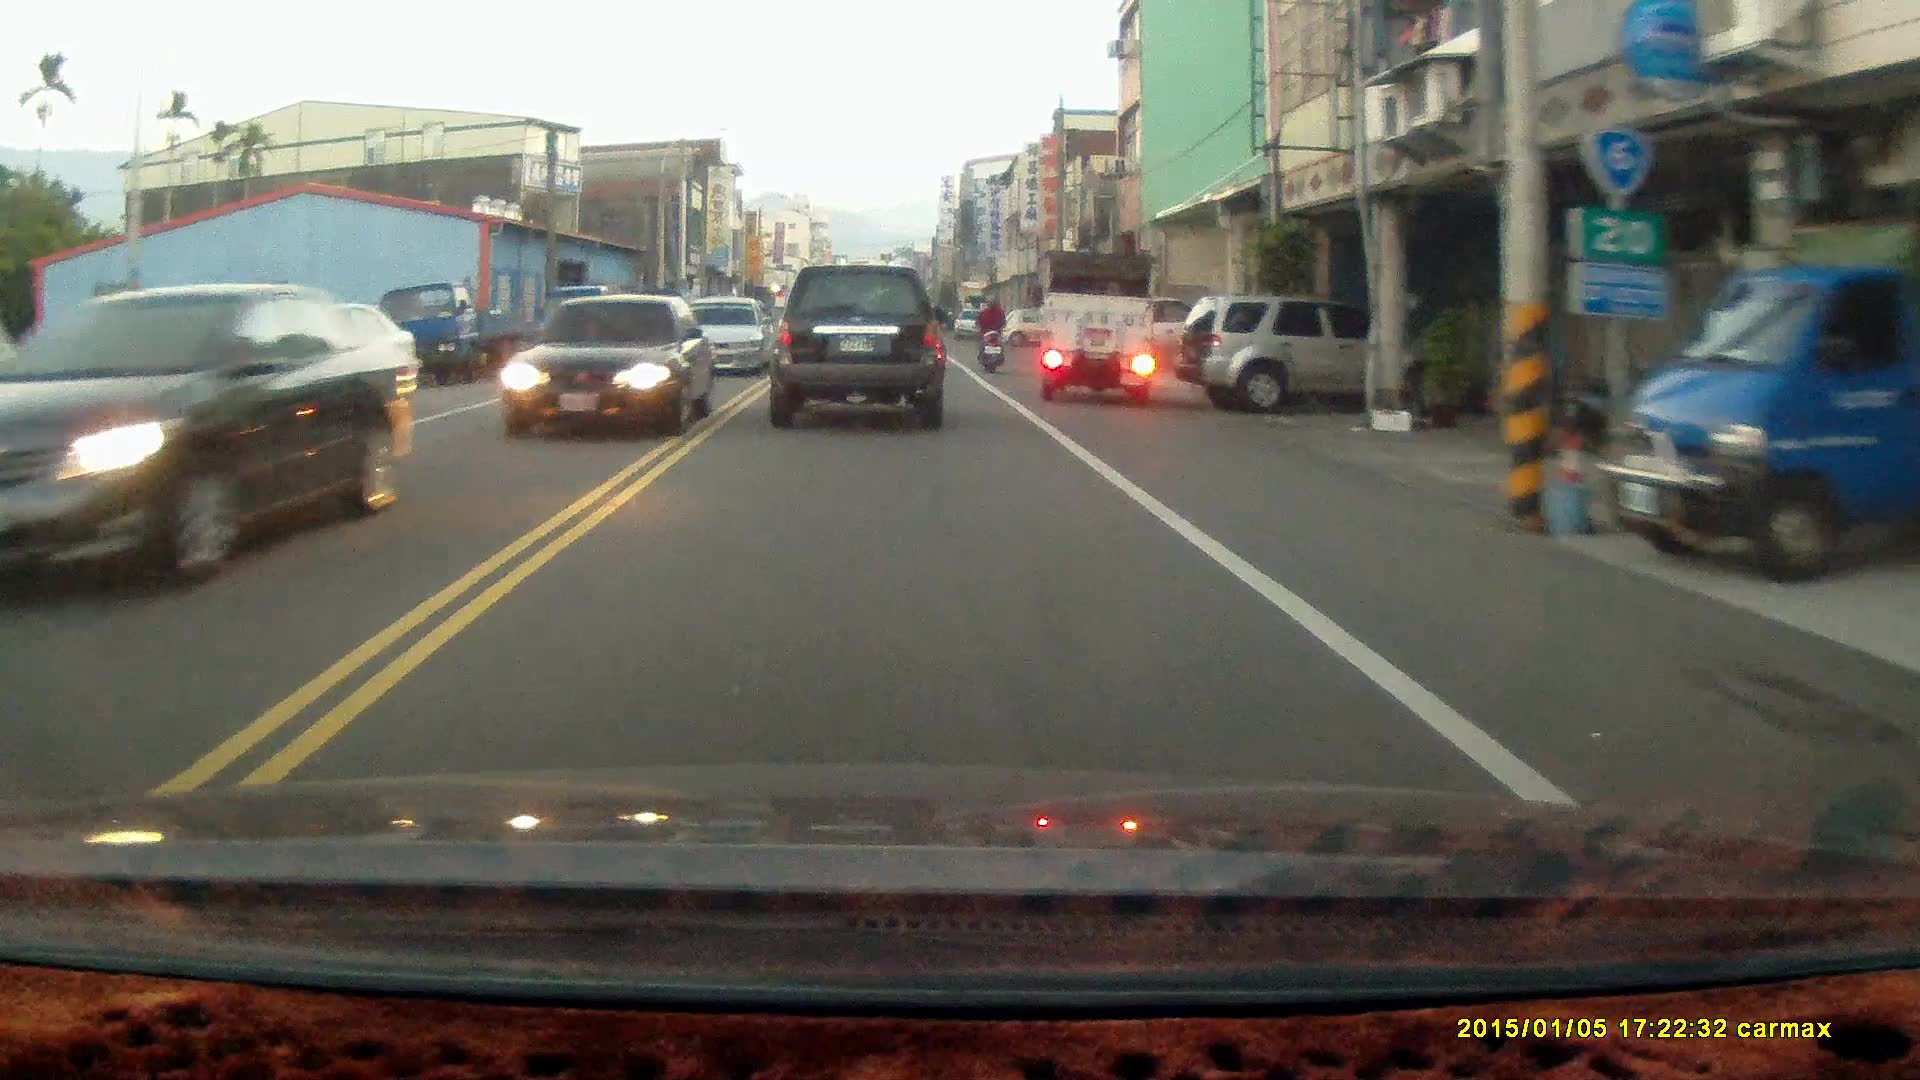rider: (970, 288, 1007, 373)
vehicle: (1, 277, 422, 591), (1604, 201, 1920, 587), (504, 287, 711, 439), (767, 263, 948, 428), (1175, 291, 1381, 410), (1040, 247, 1157, 398), (686, 289, 770, 373)
